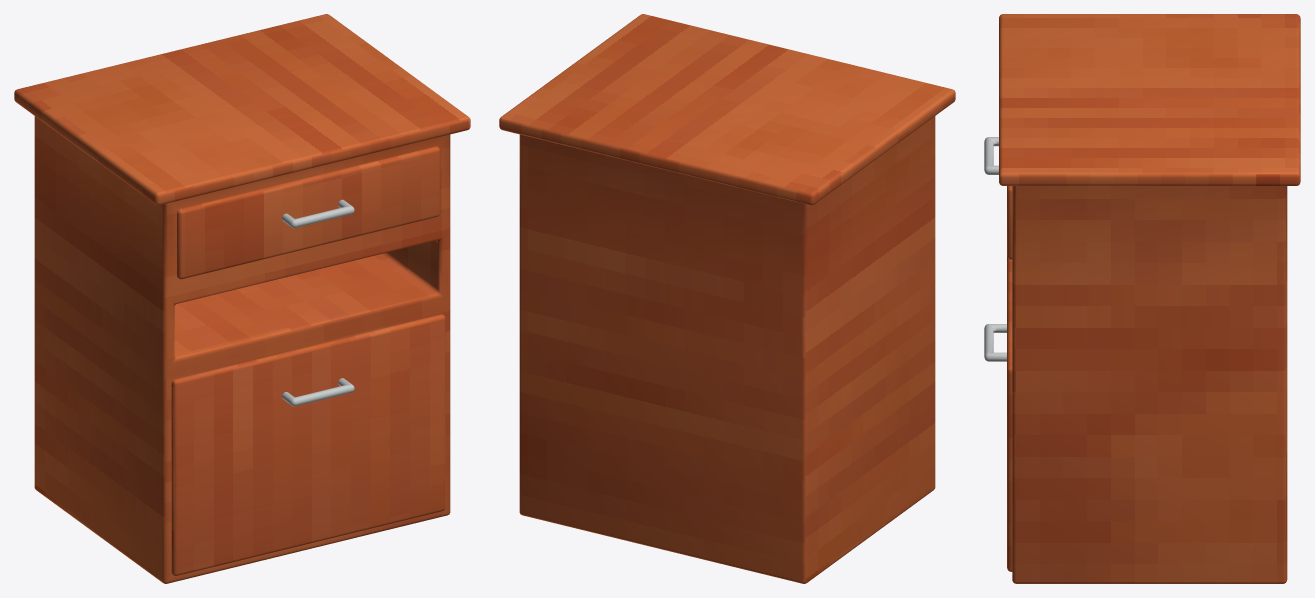
File: Cabinet_3.glb
3 renders of one model, left to right at view 1: azimuth 30°, elevation 25°; view 2: azimuth 150°, elevation 25°; view 3: azimuth 270°, elevation 25°, orthographic. The views are drawn at different scales.
Parts seen in each view (by area): view 1: Cabinet_3.001; view 2: Cabinet_3.001; view 3: Cabinet_3.001.
Part boxes in pixels (left/top/right/bottom): Cabinet_3.001: left=14, top=14, right=470, bottom=583; Cabinet_3.001: left=499, top=14, right=955, bottom=583; Cabinet_3.001: left=984, top=14, right=1300, bottom=583.
Bounding box in the file's own units: 0.6514 × 0.7887 × 0.5396.
Materials: 1 (1 with a texture image).
